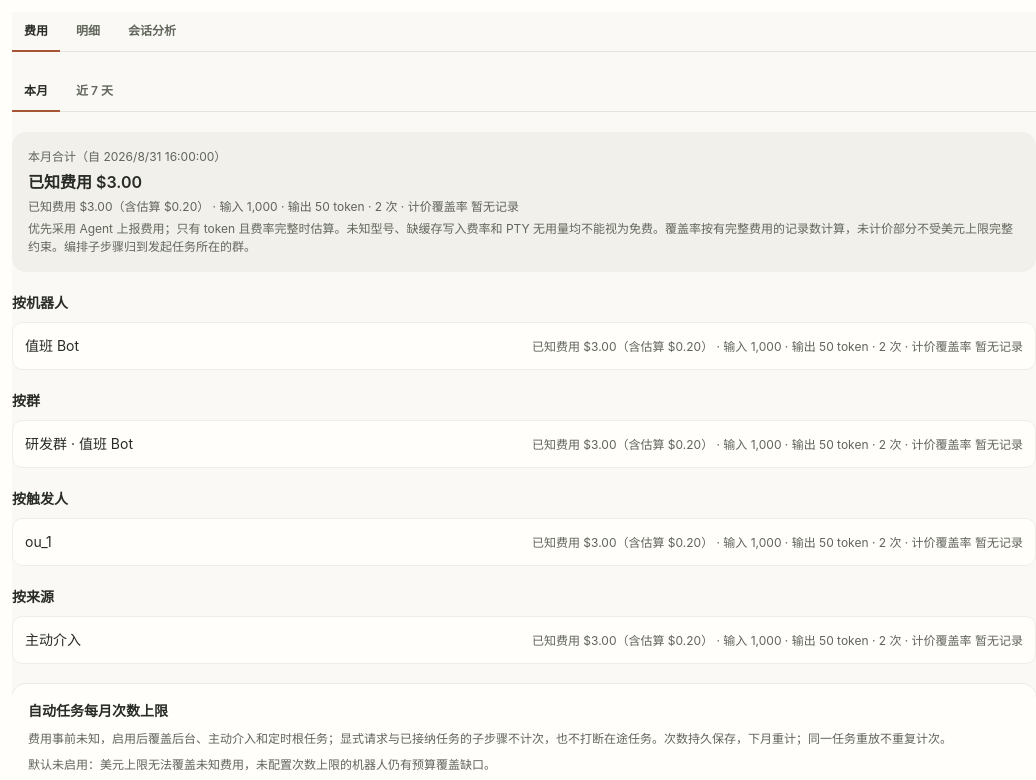
Test: usage overview › summarises this month and the last 7 days by bot, group, actor and source, marking estimates
The width and height of the screenshot is (1036, 780).
expect the text "值班 Bot" is shown: met, box [25, 335, 79, 357]
expect the 2nd text "$3.00（含估算 $0.20）" is shown: met, box [532, 339, 1023, 354]
Click the tab "近 7 天" at (94, 92), box [64, 72, 125, 112]
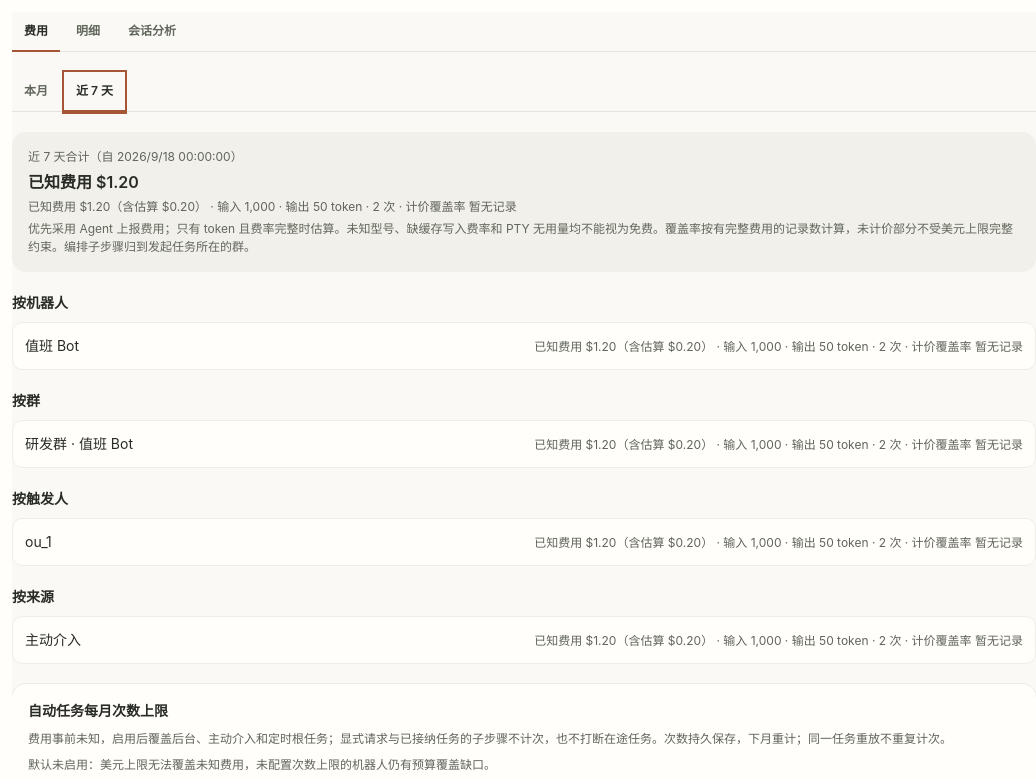
expect the 2nd text "$1.20（含估算 $0.20）" is shown: met, box [534, 339, 1023, 354]
